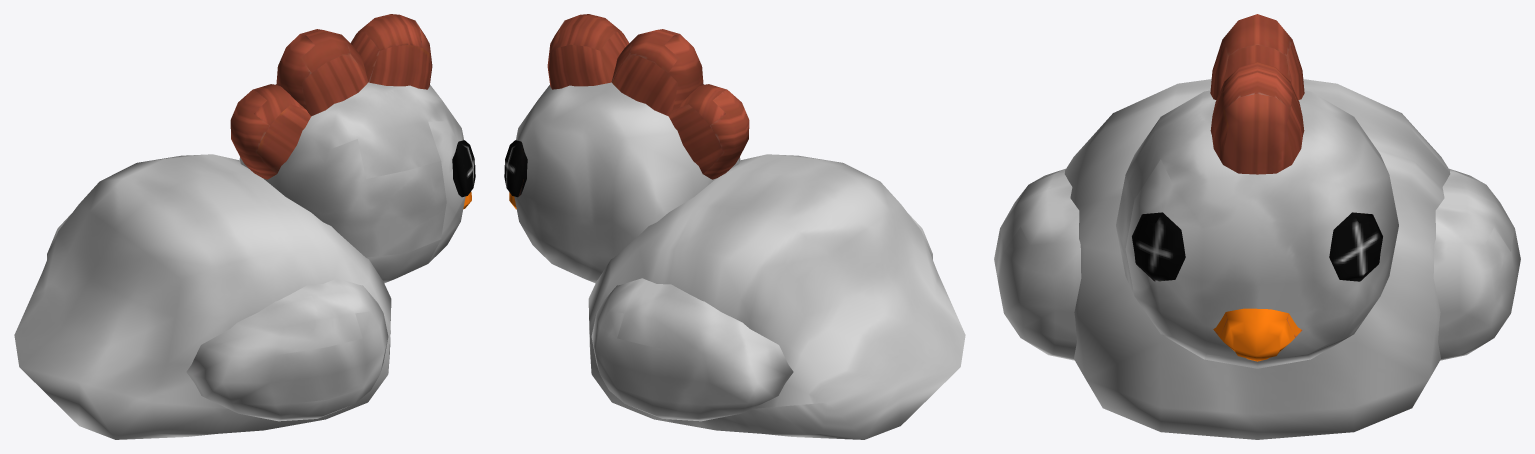
File: SM_ChickenPlush.fbx
3 renders of one model, left to right at view 1: azimuth 30°, elevation 25°; view 2: azimuth 150°, elevation 25°; view 3: azimuth 270°, elevation 25°, orthographic. The views are drawn at different scales.
Visible parts, largest first — view 1: polySurface6; view 2: polySurface6; view 3: polySurface6.
Part boxes in pixels (x1,y1,x2,y2): polySurface6: [14, 14, 475, 439]; polySurface6: [504, 14, 965, 439]; polySurface6: [994, 14, 1520, 439].
Size of the model in its own units: 276 by 206 by 226.
